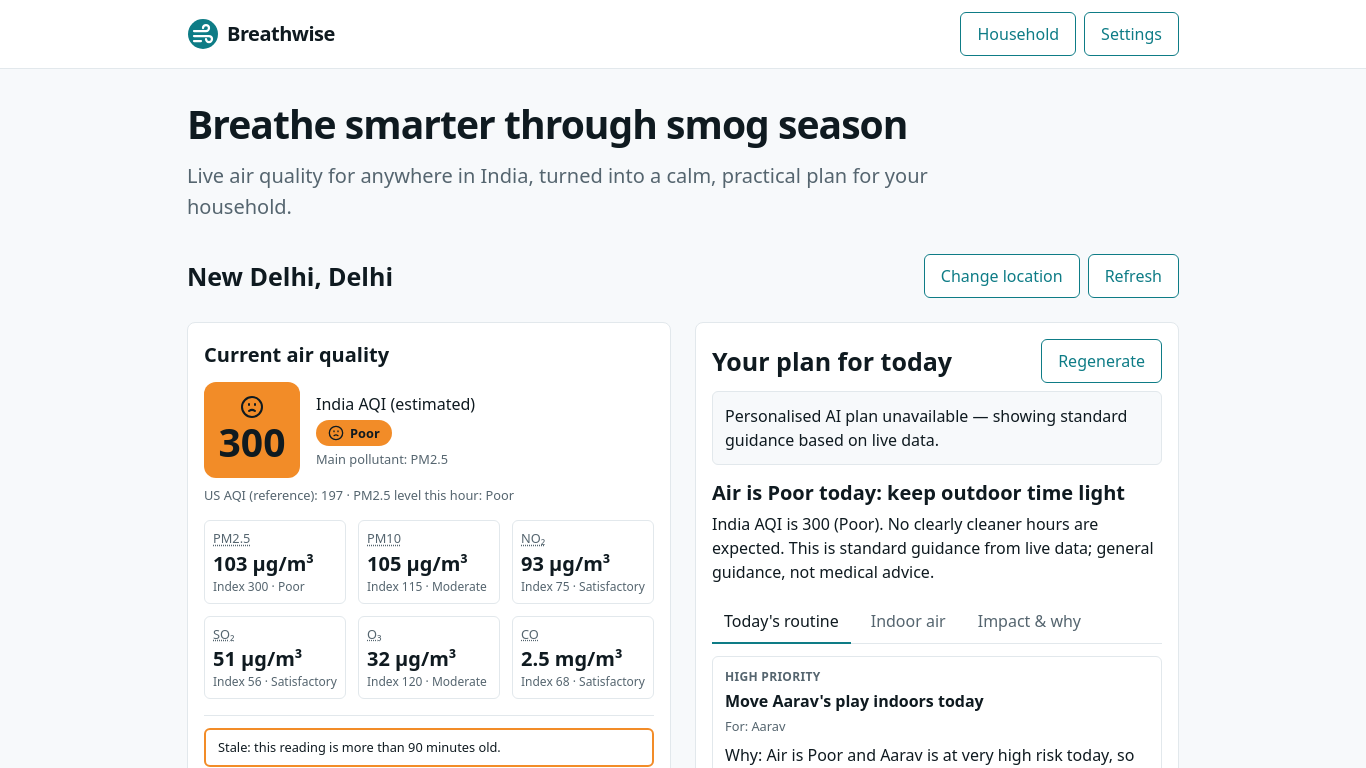
Test case: Settings sheet › "Clear everything" removes all data and returns to onboarding with focus on its heading
Click the button "Settings" at (1132, 34), box [1084,12,1179,56]
(page scrolled)
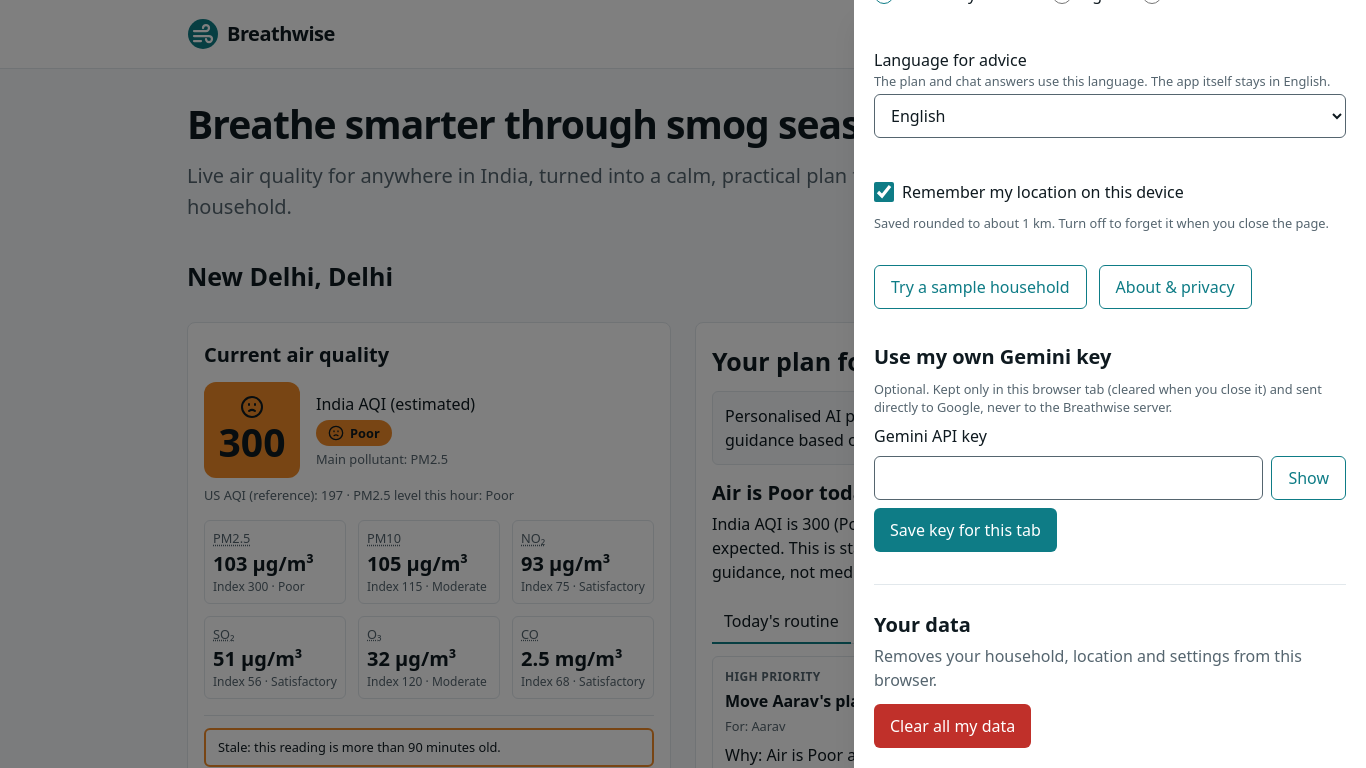
Click the button "Clear all my data" at (953, 726), box [874,704,1031,748]
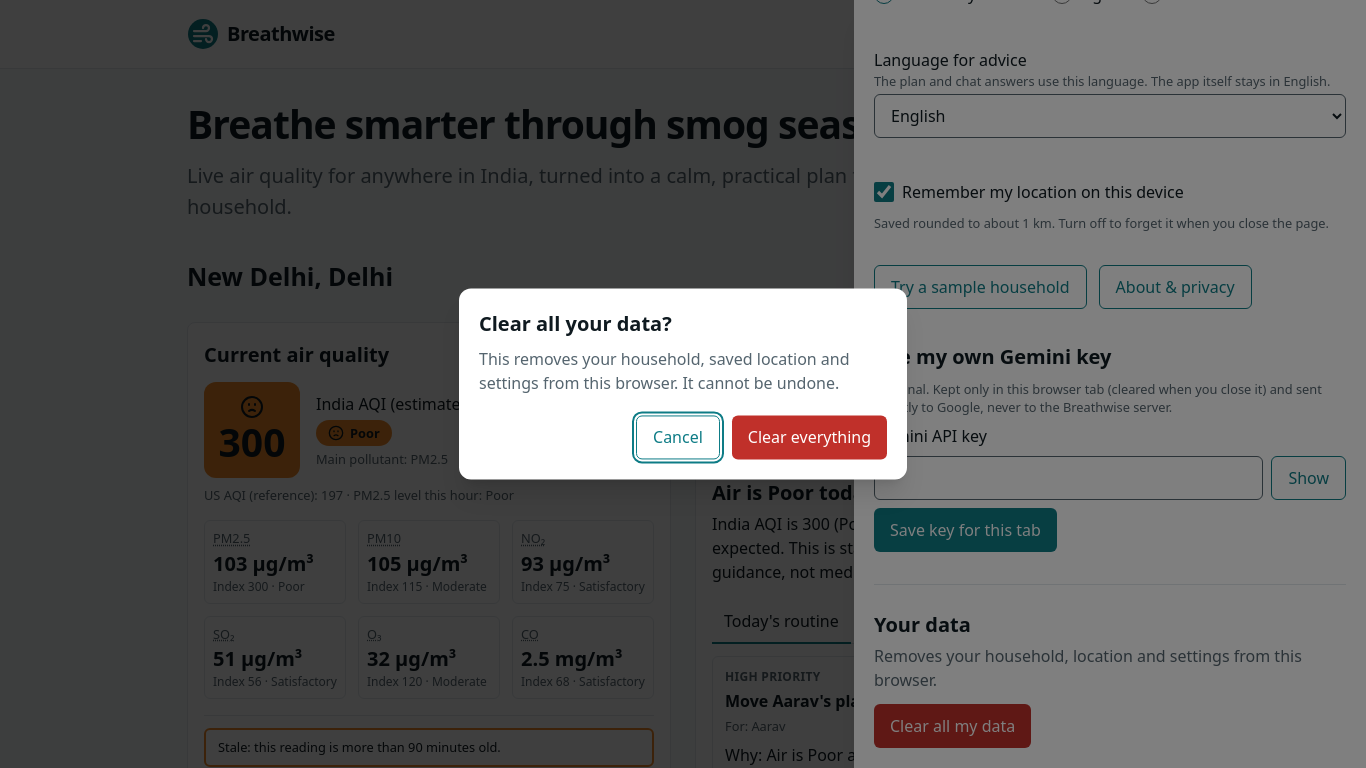
Click the button "Clear everything" at (809, 438), box [732,416,887,460]
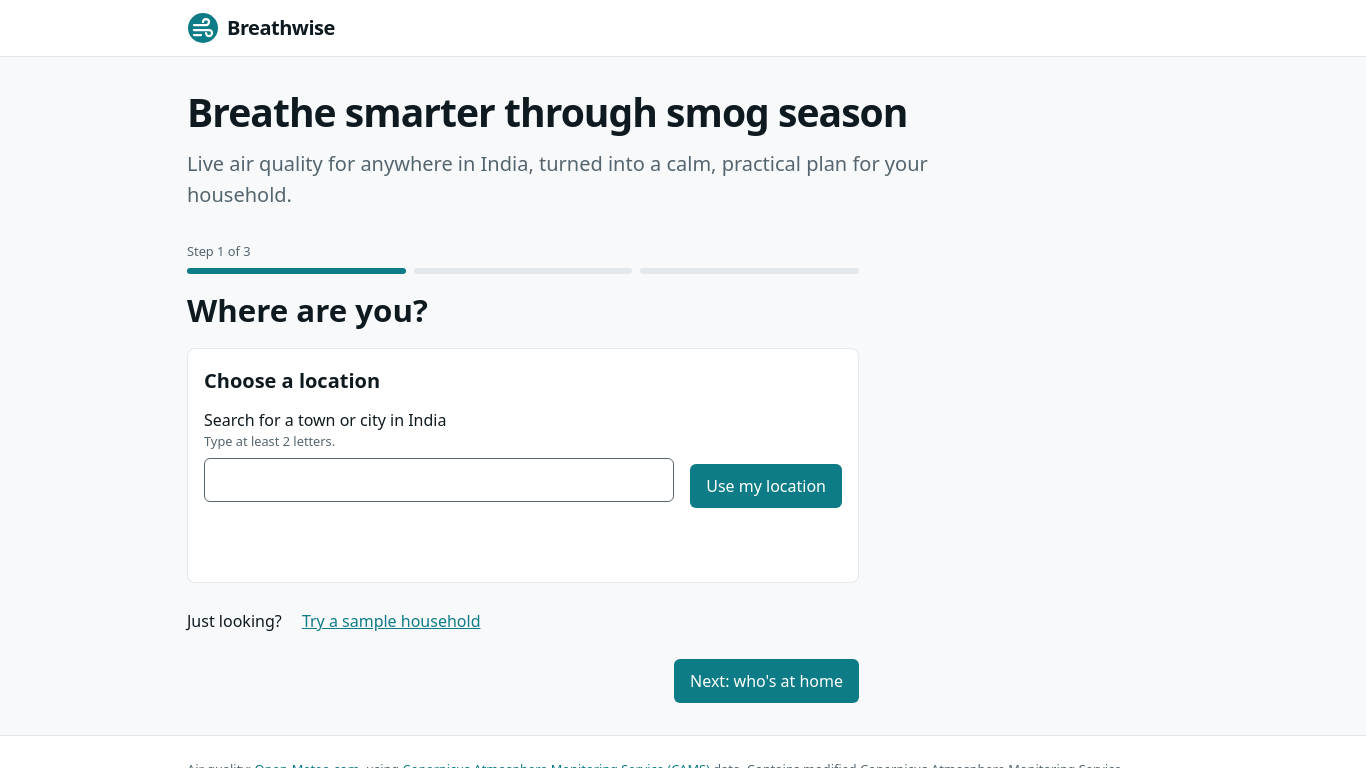
Check: the text "Step 1 of 3" is shown, box [187,242,250,260]
